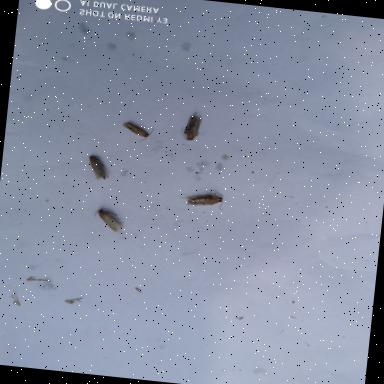pbw: (175, 184, 228, 212), (90, 204, 126, 236), (177, 110, 208, 144), (120, 119, 156, 146), (84, 153, 112, 184)
